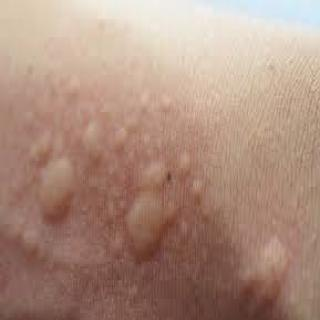urticaria: (29, 76, 320, 320)
